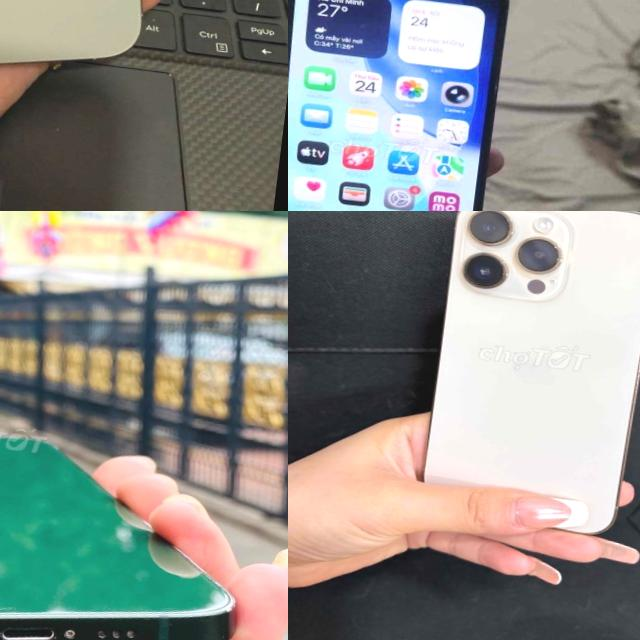gen_12_13: (0, 403, 258, 640), (288, 0, 523, 211)
gen_14: (402, 211, 640, 568)
gen_16: (0, 0, 196, 93)
